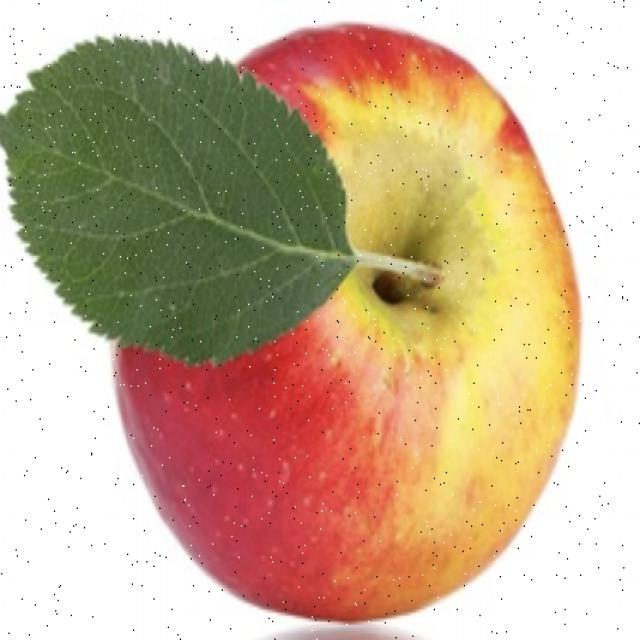Fresh Apple: (119, 19, 583, 616)
